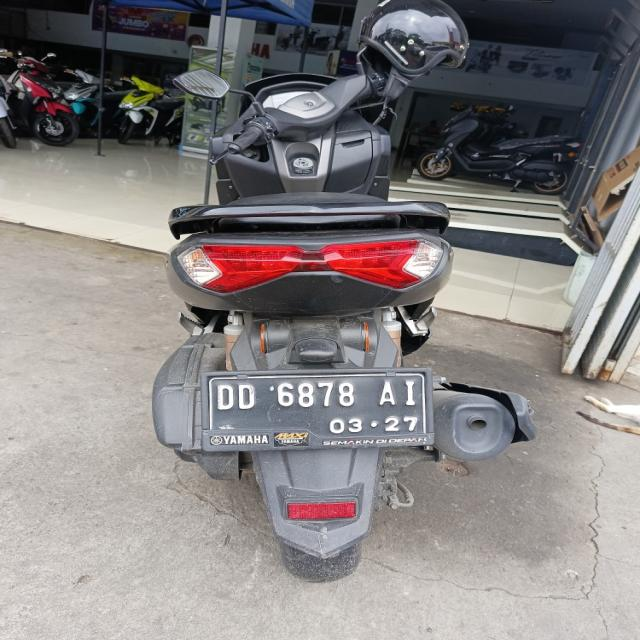plates: (196, 370, 427, 454)
